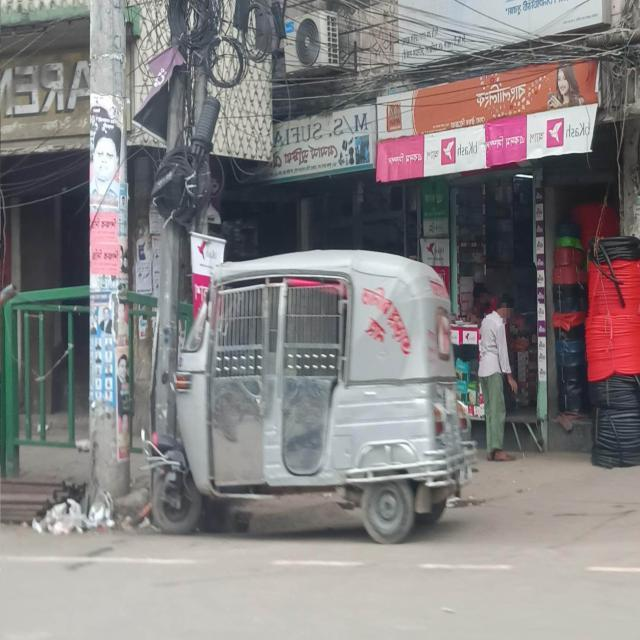CNG: (113, 227, 510, 558)
